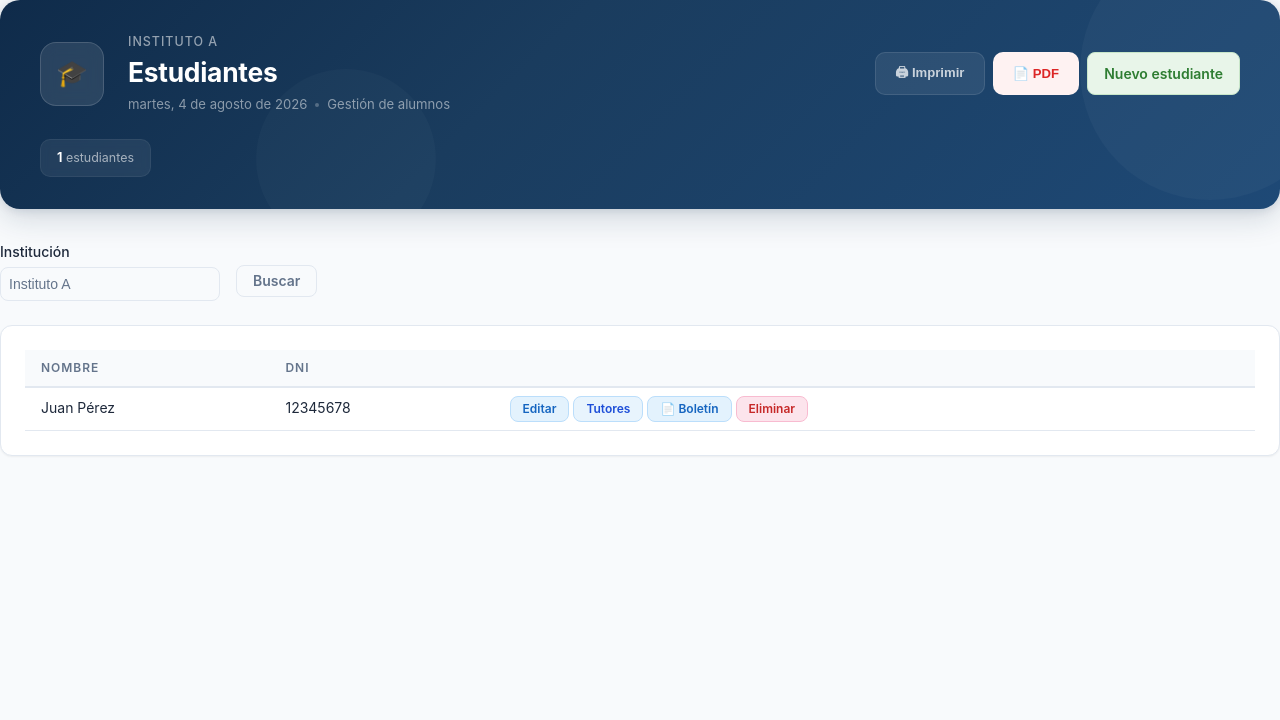
Test case: StudentsPage — guardian panel (PR3) › shows error and blocks submit when relationship field is empty
Click the button "Tutores" at (608, 409), box [573,396,643,422]
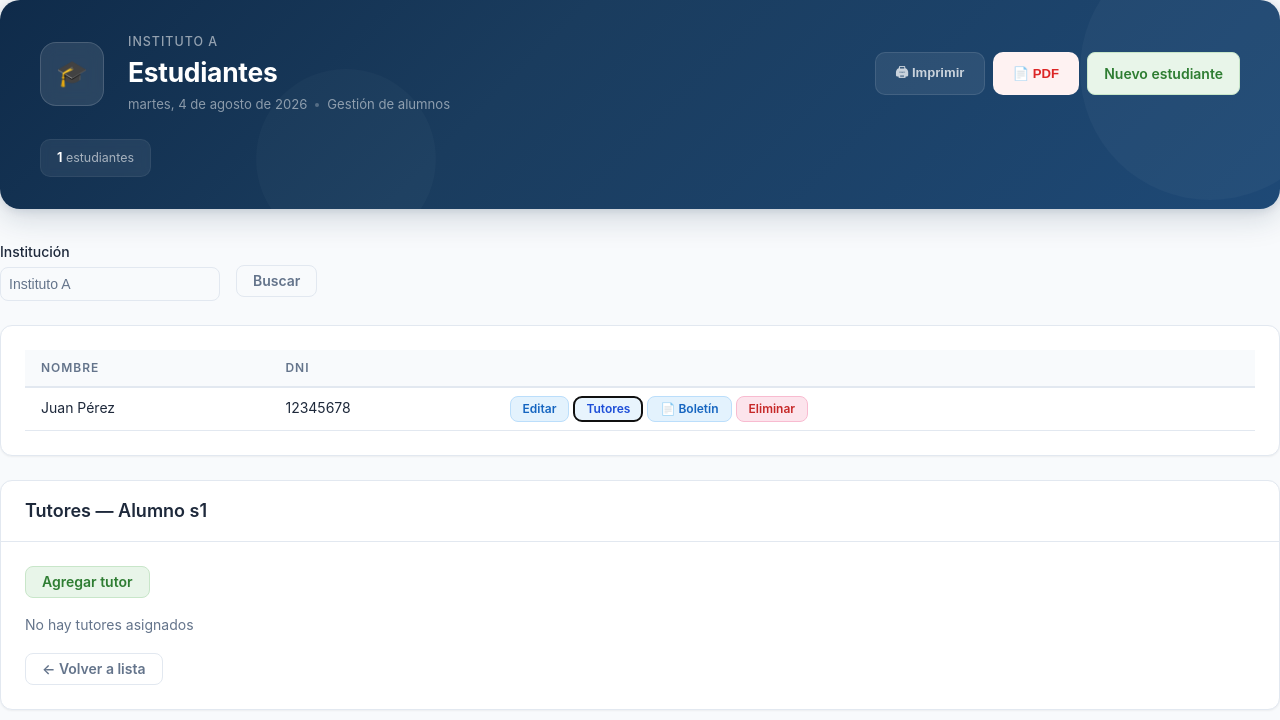
Click the button "Agregar tutor" at (87, 582), box [25,566,150,598]
(page scrolled)
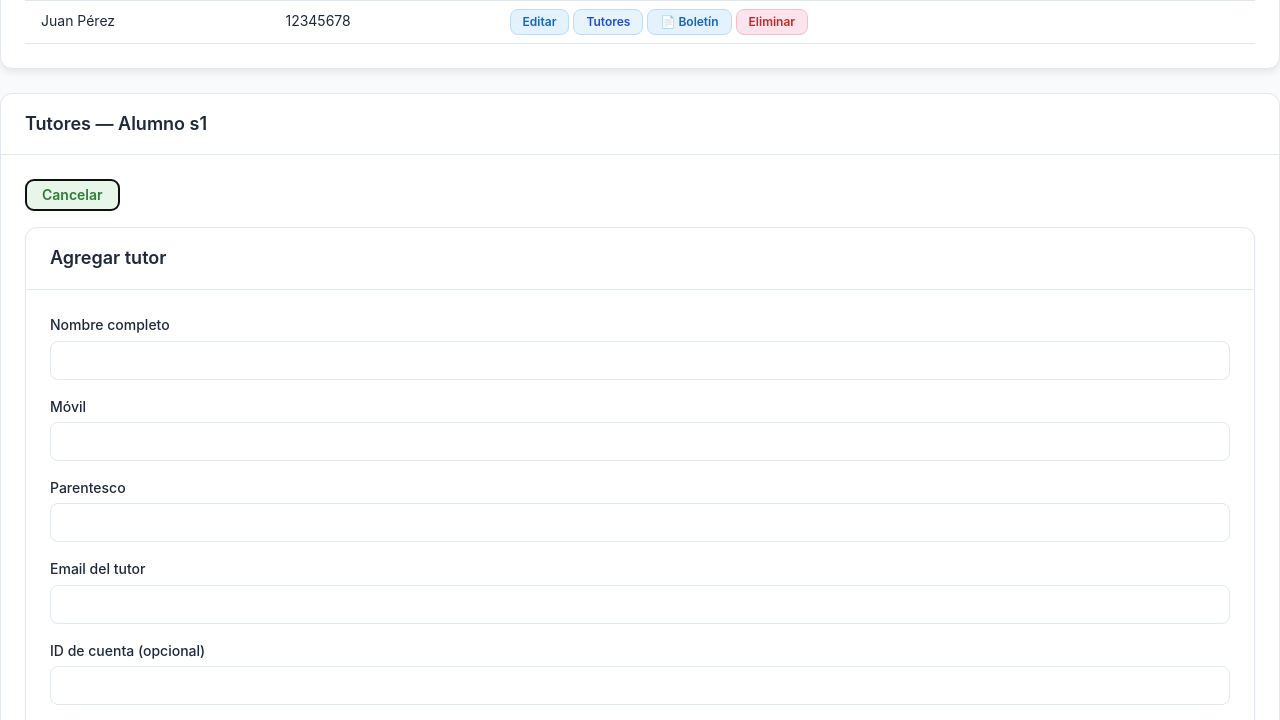
# Fill fullName and mobile, leave relationship empty
Type "Pedro Rodríguez" into the field labelled "Nombre completo" at (640, 360), box [50,341,1230,380]
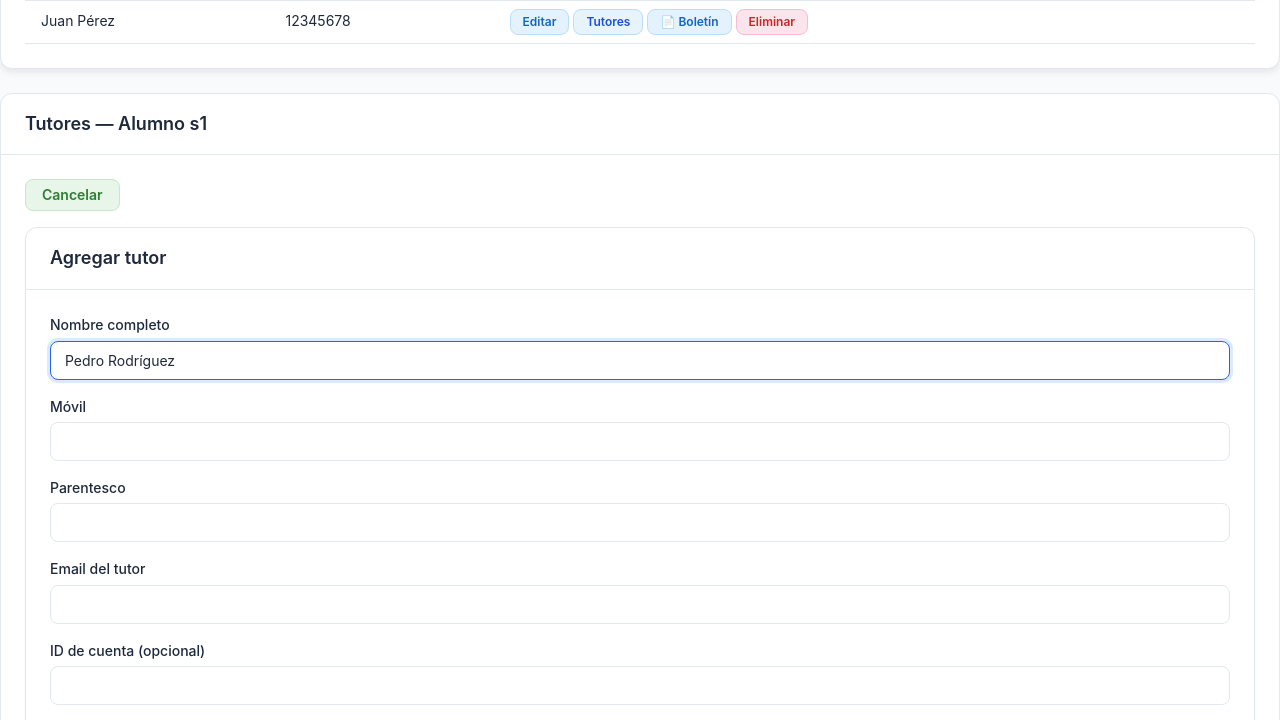
Type "+5491187654321" into the field labelled "Móvil" at (640, 442), box [50,422,1230,461]
(page scrolled)
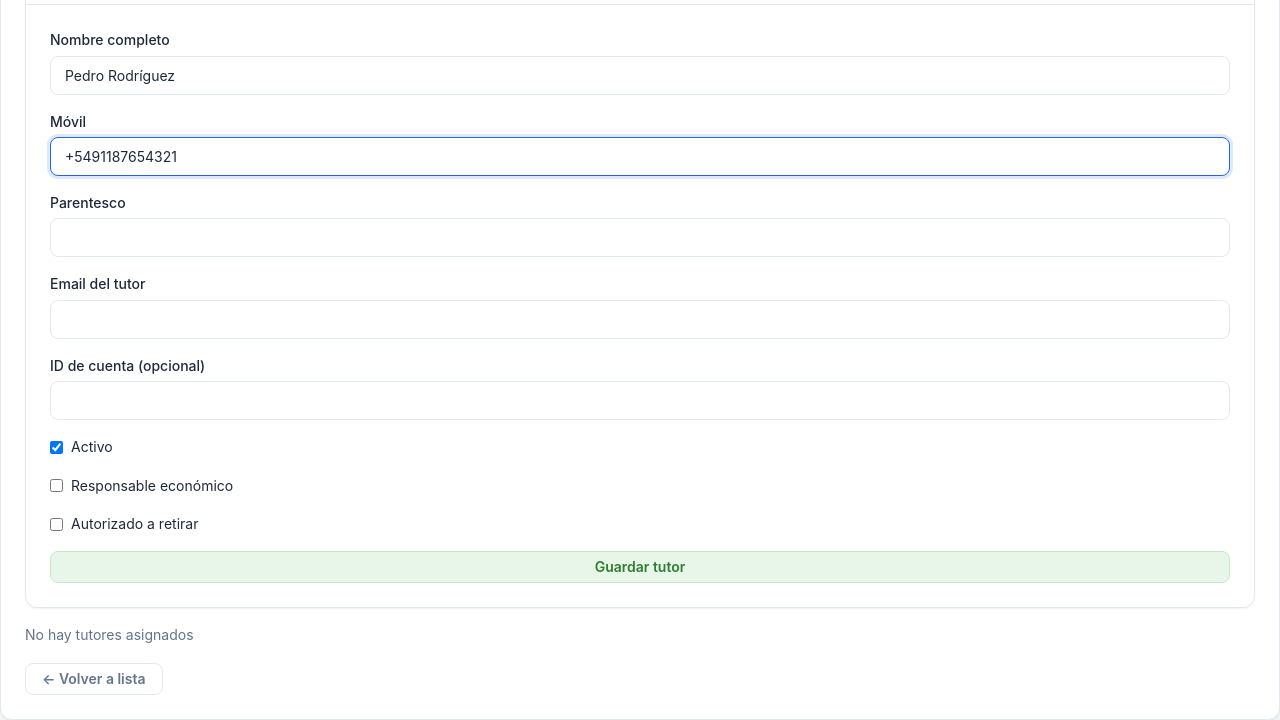
# Submit without relationship
Click the button "Guardar tutor" at (640, 567), box [50,551,1230,583]
(page scrolled)
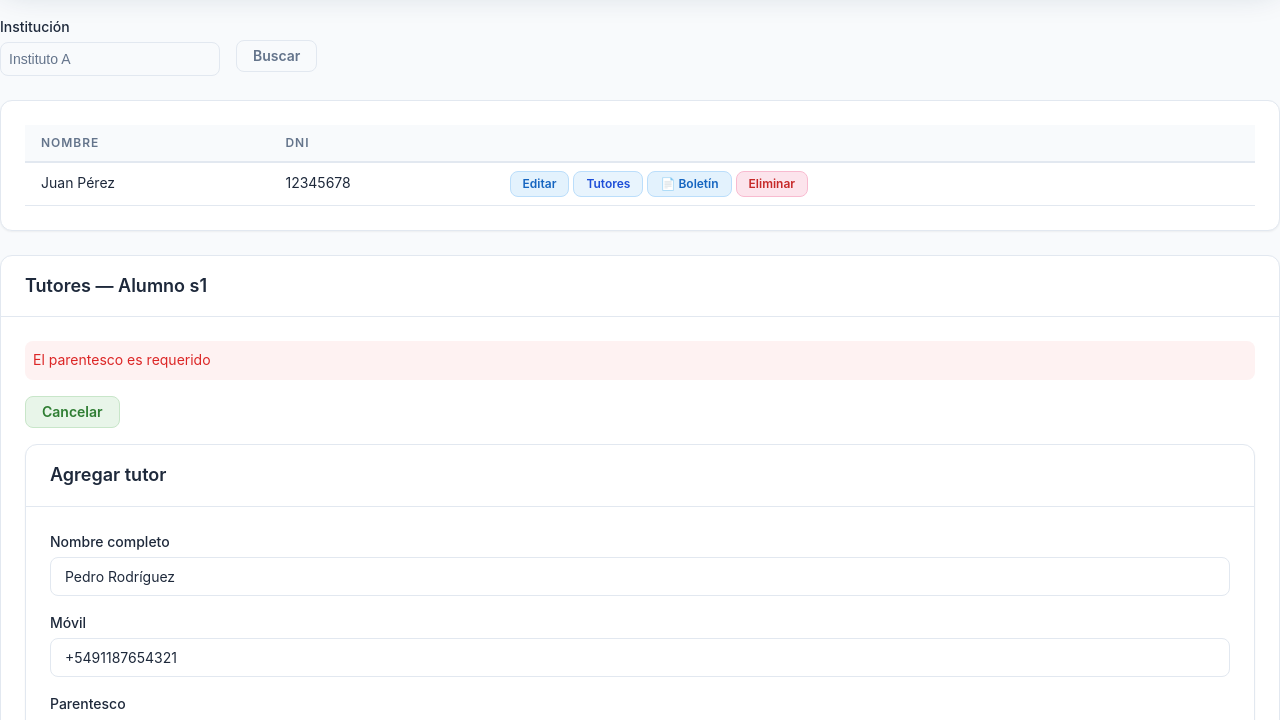
Result: the text "El parentesco es requerido" is shown at [25,341,1255,380]
